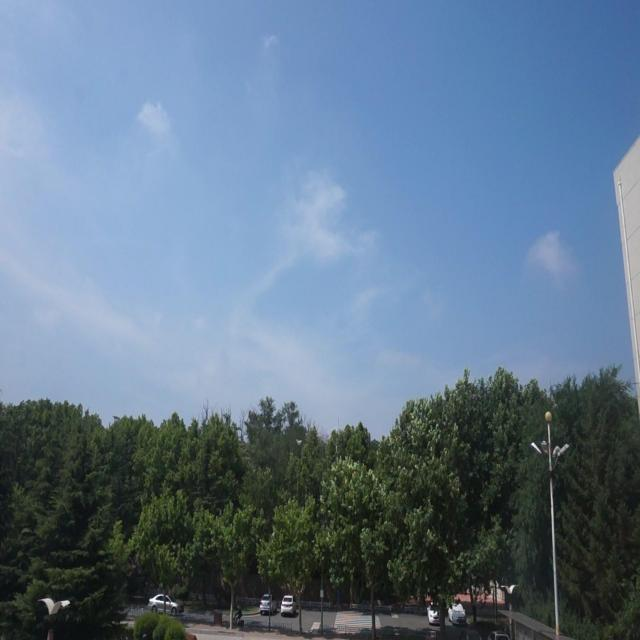UAV: (296, 439, 302, 445)
